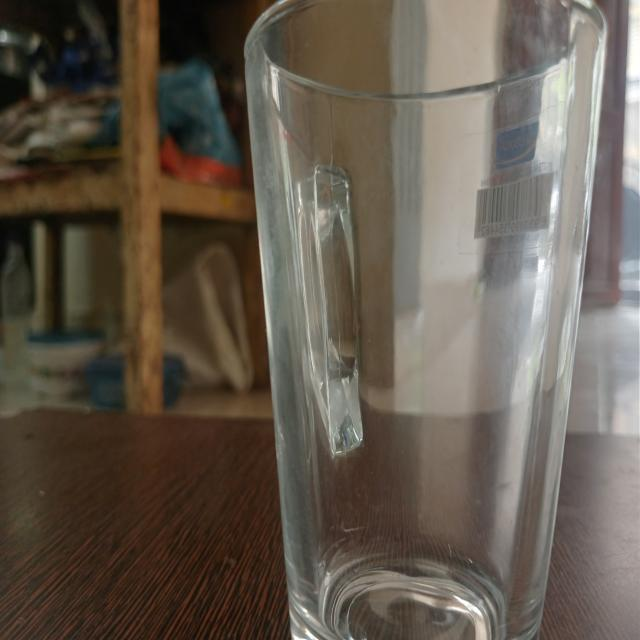glass-VX4N: (242, 0, 605, 640)
